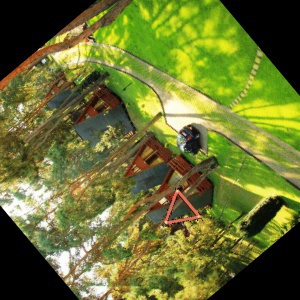triangle: (161, 187, 204, 226)
